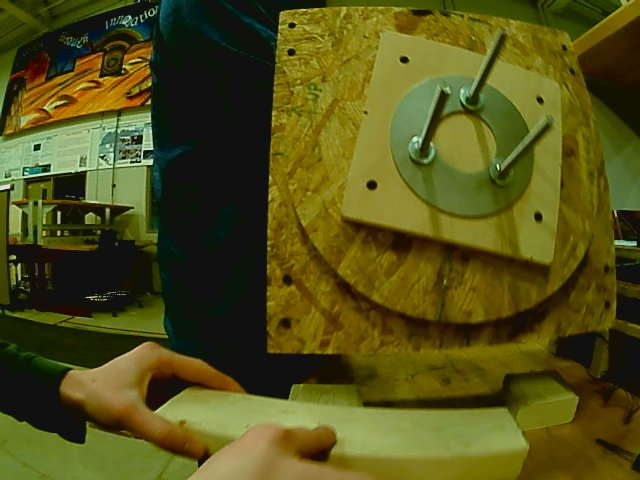bolt: (457, 81, 488, 115), (409, 134, 439, 167), (490, 157, 515, 189)
